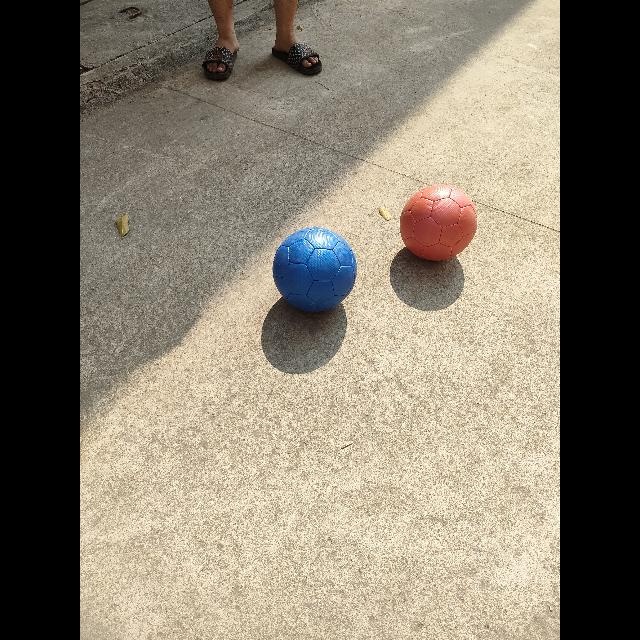B: (272, 226, 358, 315)
R: (399, 186, 479, 264)
